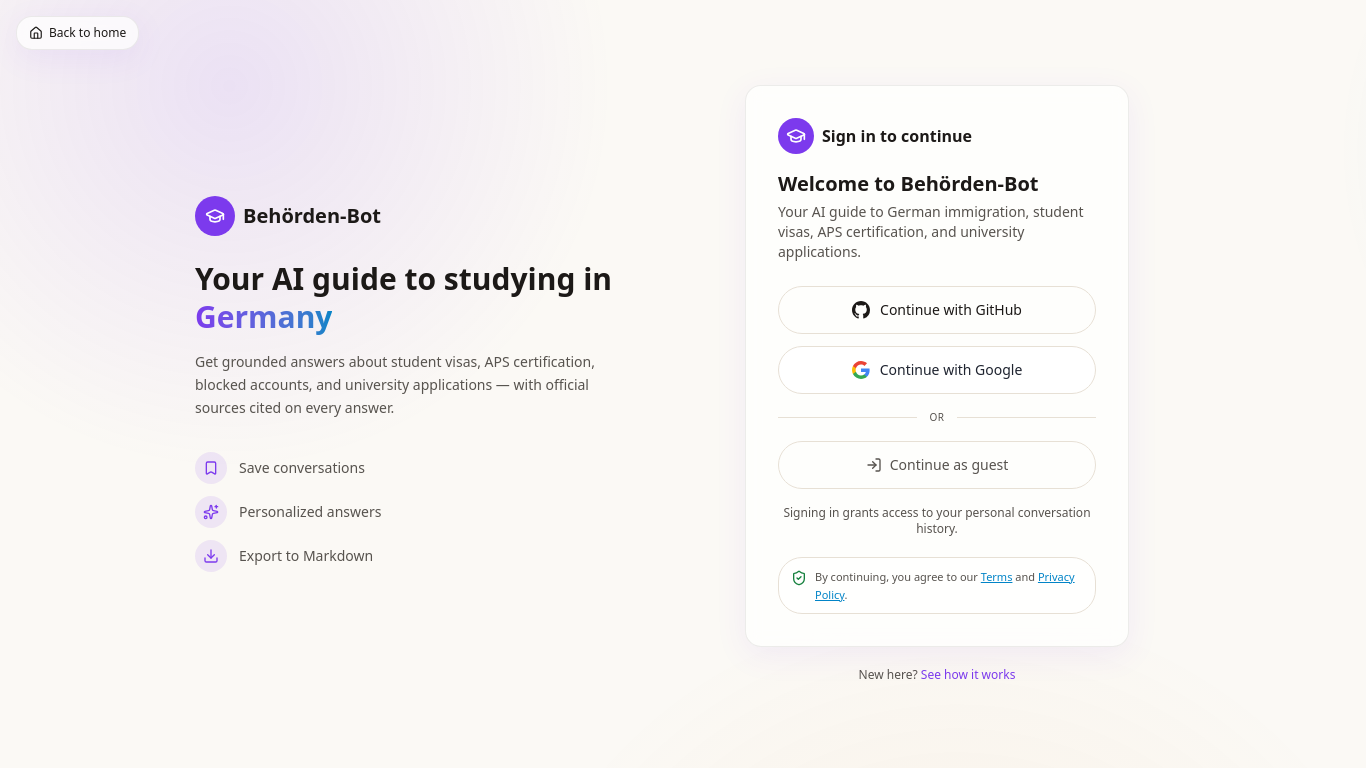
Scenario: LoginContent › falls back to a generic error when the guest request throws
This screenshot has width=1366, height=768.
Step 1. Click the button "Continue as guest" → click(937, 465), box [778,441,1096,489]
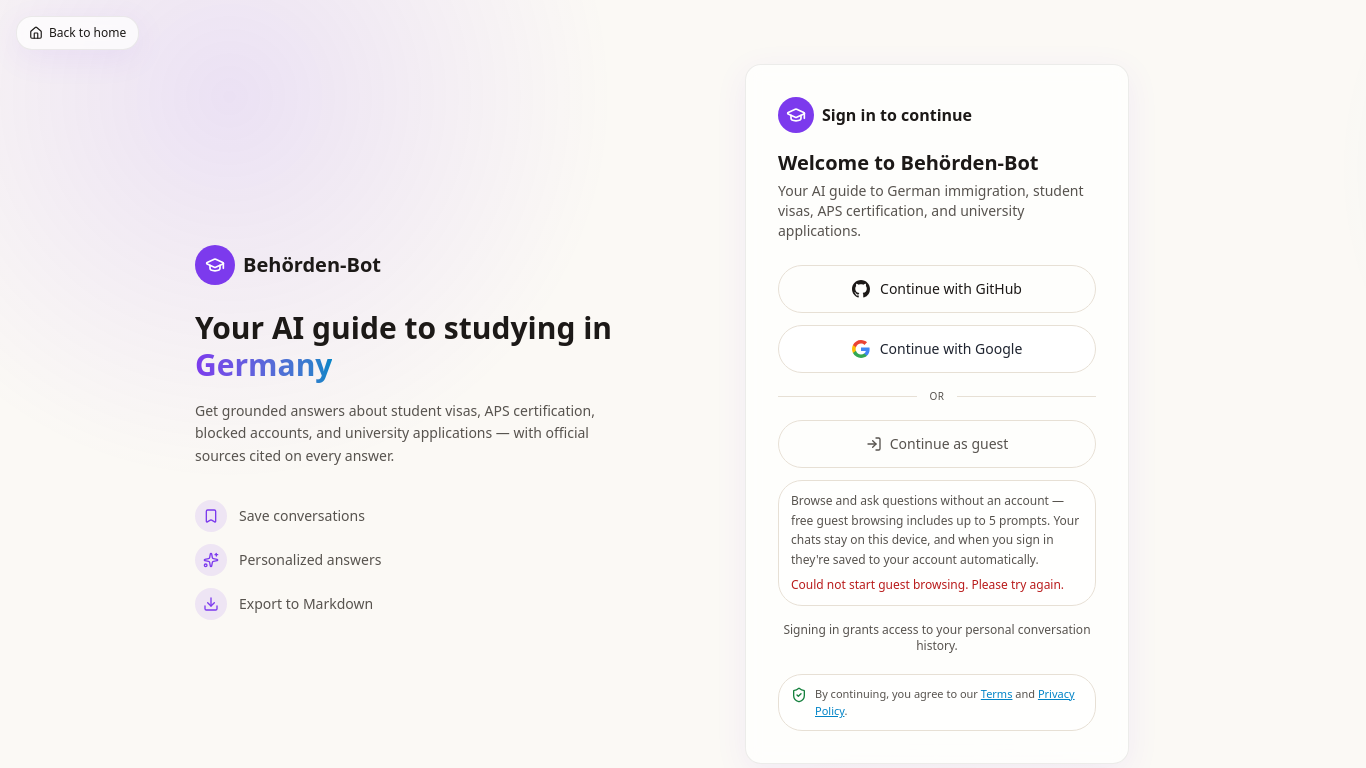
Expected: the text "Could not start guest browsing. Please try again." is shown, [791,575,1083,594]
